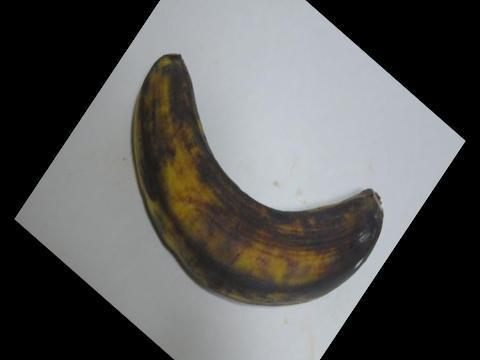overripe: (115, 39, 394, 315)
rotten: (297, 182, 396, 288)
